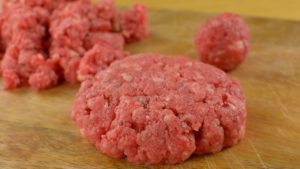ground_beef: (90, 53, 249, 151), (1, 3, 162, 65), (194, 6, 246, 74)
